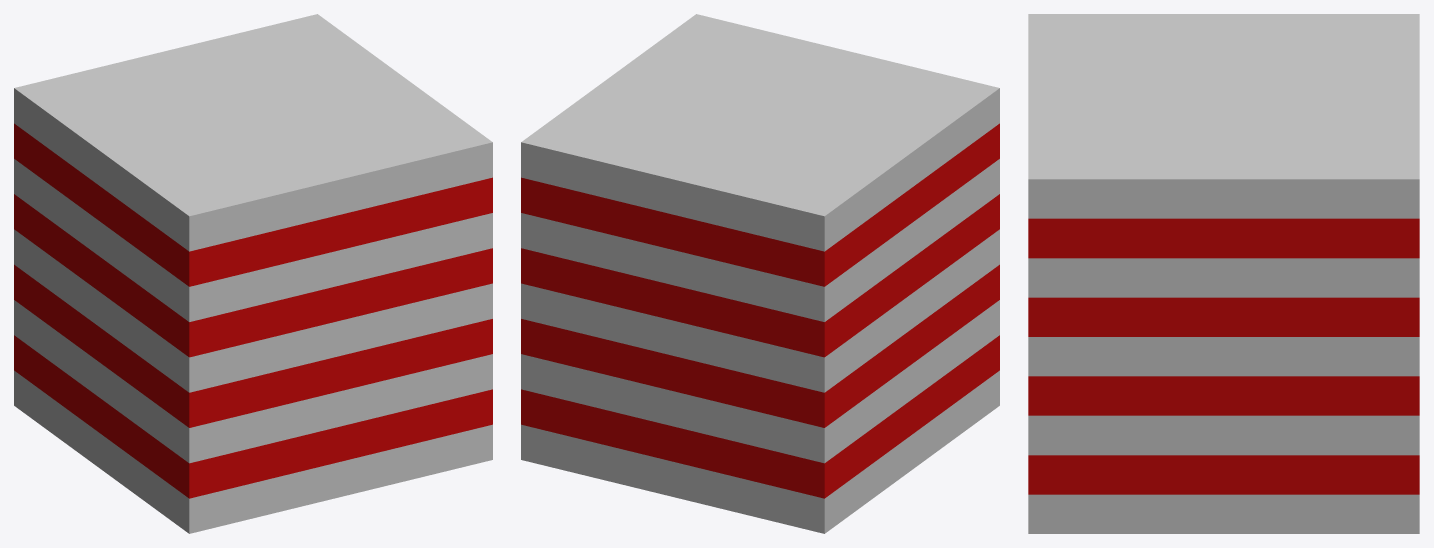
The model's file is Player0.fbx.
3 renders of one model, left to right at view 1: azimuth 30°, elevation 25°; view 2: azimuth 150°, elevation 25°; view 3: azimuth 270°, elevation 25°, orthographic. The views are drawn at different scales.
Visible parts, largest first — view 1: Cube; view 2: Cube; view 3: Cube.
Boxes of the visible parts, box(x1,y1,x2,y2) form: Cube: box(14, 14, 492, 533); Cube: box(521, 14, 999, 533); Cube: box(1028, 14, 1419, 533).
Bounding box in the file's own units: 100 × 100 × 100.
